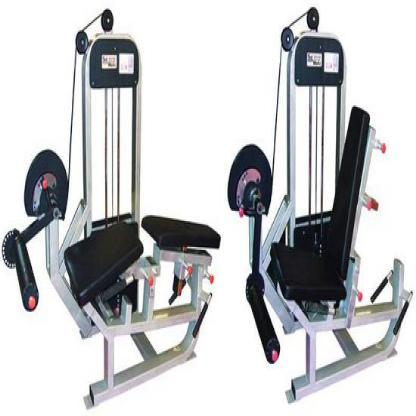reg curl machine: (1, 9, 221, 413)
